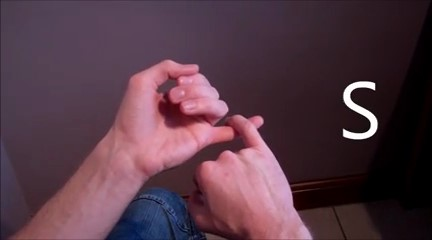S: (106, 50, 293, 238)
